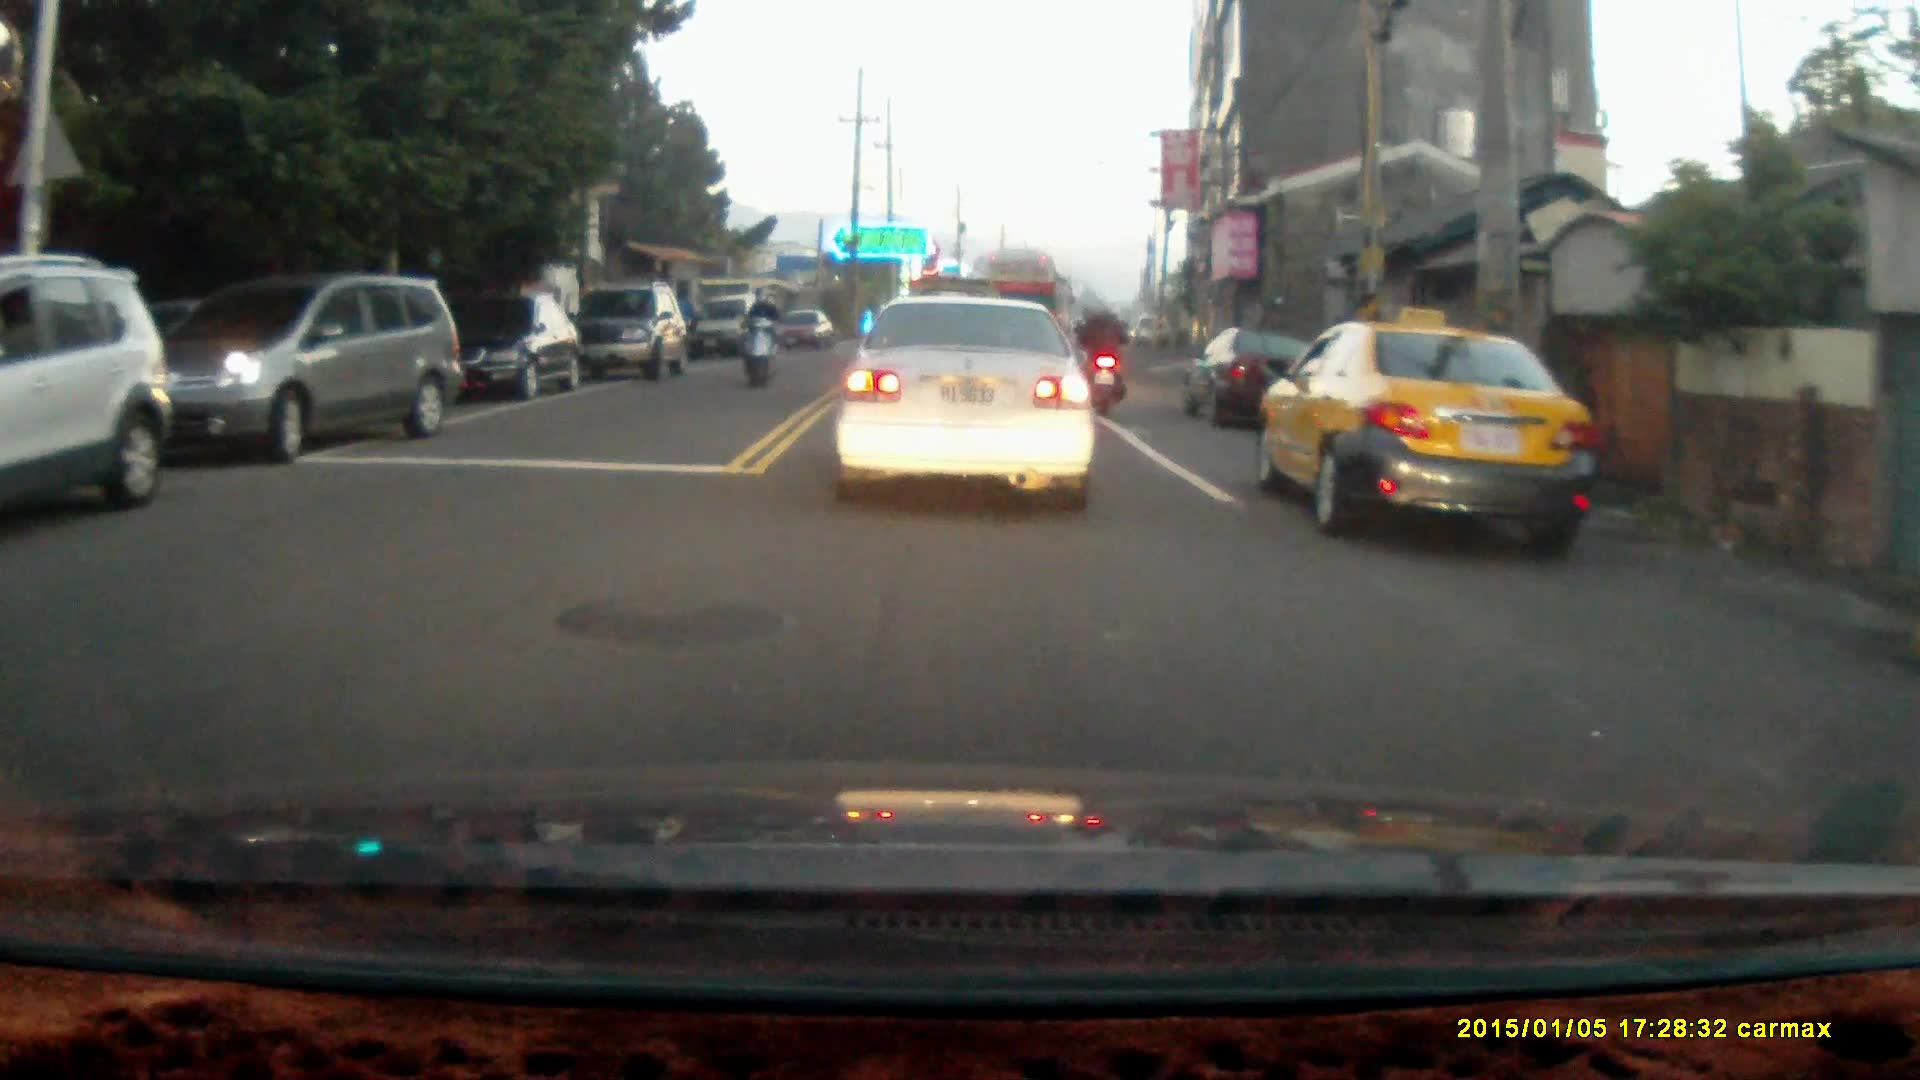rider: (1076, 292, 1134, 419), (738, 284, 779, 388)
vehicle: (1261, 322, 1599, 556), (140, 276, 463, 471), (835, 284, 1111, 502), (1, 266, 169, 531), (447, 291, 583, 403), (1196, 324, 1314, 431), (575, 286, 691, 381), (699, 291, 783, 356), (780, 308, 834, 353)
